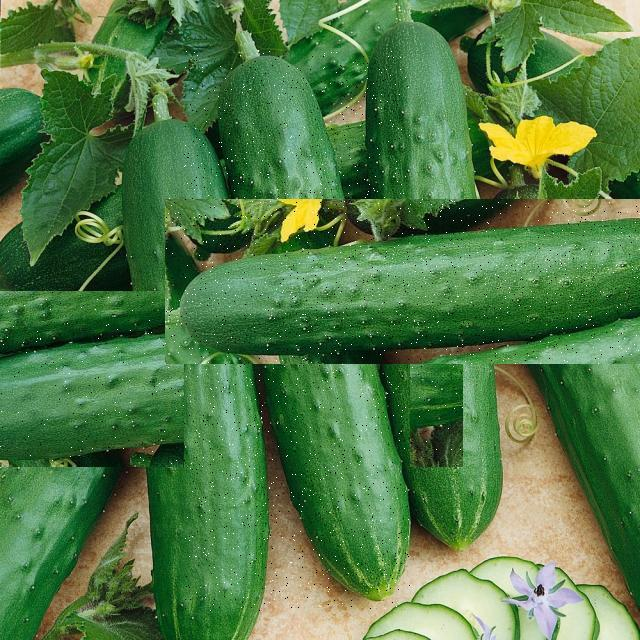Cucumber: (171, 212, 637, 353), (256, 357, 410, 597), (148, 359, 269, 636), (213, 55, 346, 249), (364, 16, 480, 223), (121, 116, 230, 312)
